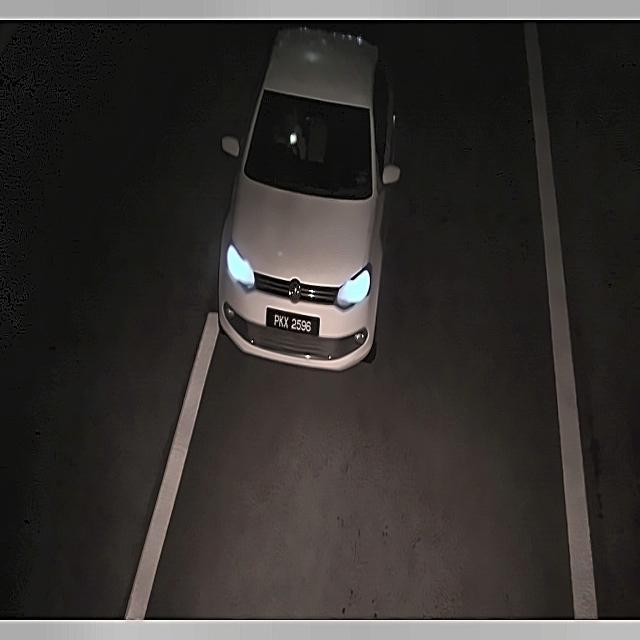car: (265, 305, 324, 347)
